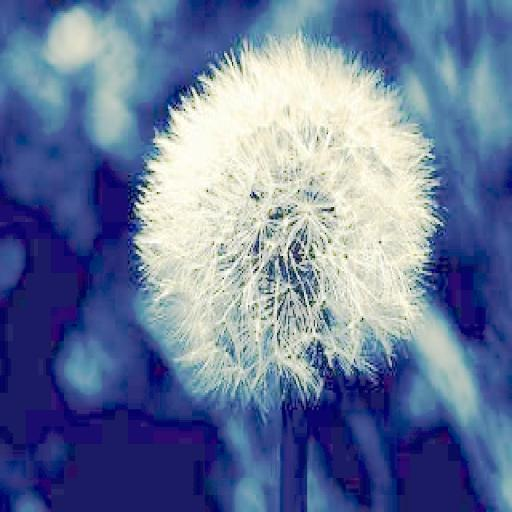dandelion: (134, 36, 440, 393)
